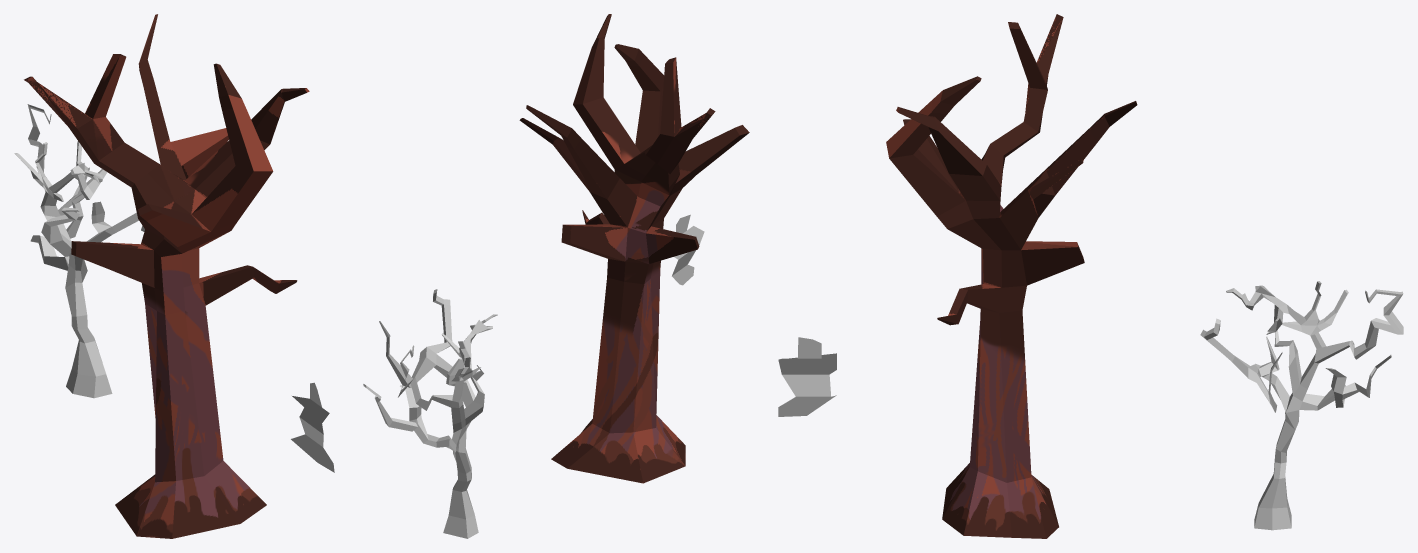
The model's file is BigTree.fbx.
The picture shows the model from 3 angles, left to right: view 1: azimuth 30°, elevation 25°; view 2: azimuth 150°, elevation 25°; view 3: azimuth 270°, elevation 25°; orthographic projection. The views are drawn at different scales.
Parts seen in each view (by area): view 1: Cube.002, Cube, Tree Branch; view 2: Cube.002, Cube, Tree Branch; view 3: Cube.002, Cube, Tree Branch.
Part boxes in pixels (left/top/right/bottom): Cube.002: left=24, top=14, right=309, bottom=538; Cube: left=14, top=104, right=144, bottom=398; Tree Branch: left=291, top=382, right=334, bottom=472; Cube.002: left=519, top=14, right=749, bottom=483; Cube: left=363, top=289, right=497, bottom=538; Tree Branch: left=672, top=214, right=704, bottom=285; Cube.002: left=886, top=14, right=1137, bottom=538; Cube: left=1200, top=281, right=1403, bottom=530; Tree Branch: left=778, top=337, right=836, bottom=416.
Size of the model in its own units: 2781 by 4743 by 5812.
